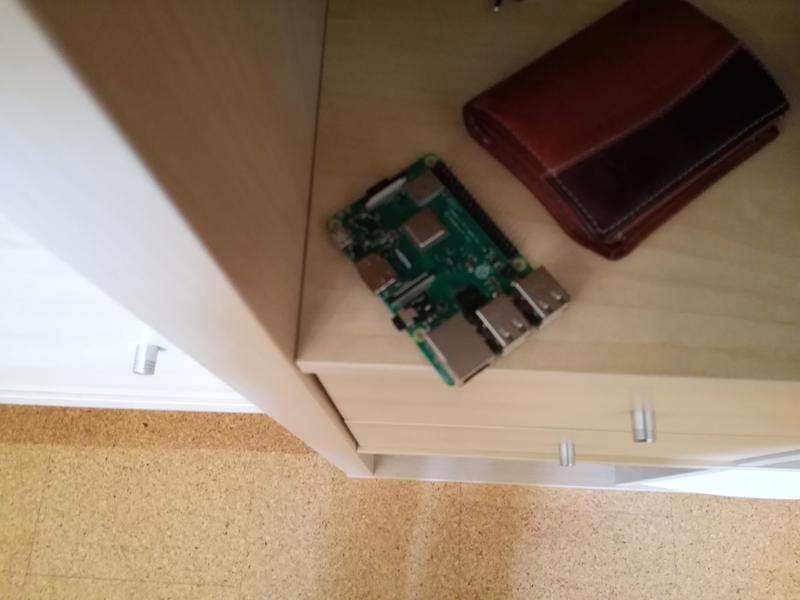Raspberry_Pi_3: (324, 151, 574, 391)
